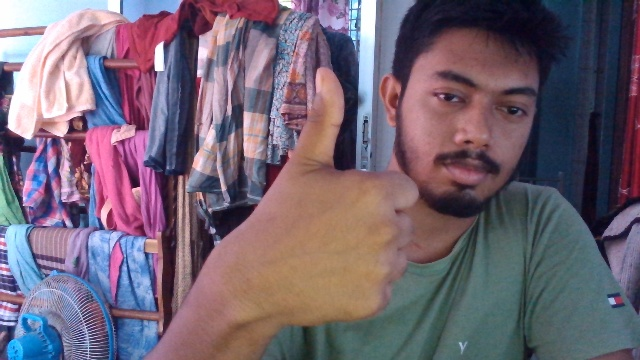yes: (242, 59, 419, 340)
